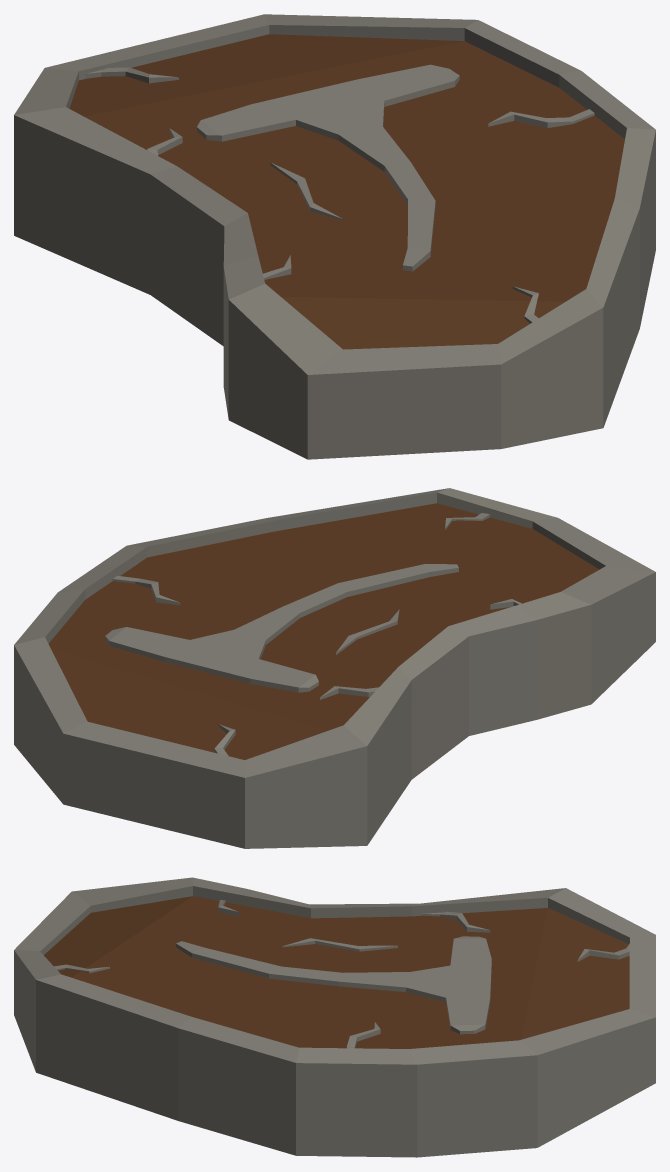
The model's file is cc0-steak-lod0.glb.
The picture shows the model from 3 angles, top to bottom: view 1: azimuth 30°, elevation 25°; view 2: azimuth 150°, elevation 25°; view 3: azimuth 270°, elevation 25°; orthographic projection. The views are drawn at different scales.
Visible parts, largest first — view 1: part_0; view 2: part_0; view 3: part_0.
Part boxes in pixels (x1,y1,x2,y2): part_0: (14, 14, 655, 459); part_0: (14, 488, 655, 848); part_0: (14, 877, 655, 1157).
Size of the model in its own units: 1.32 by 0.3397 by 1.91.
